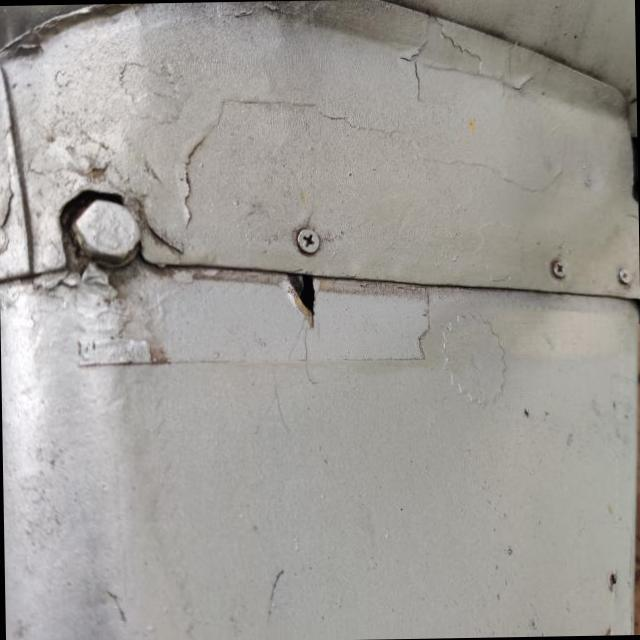Rupture: (259, 252, 346, 351)
